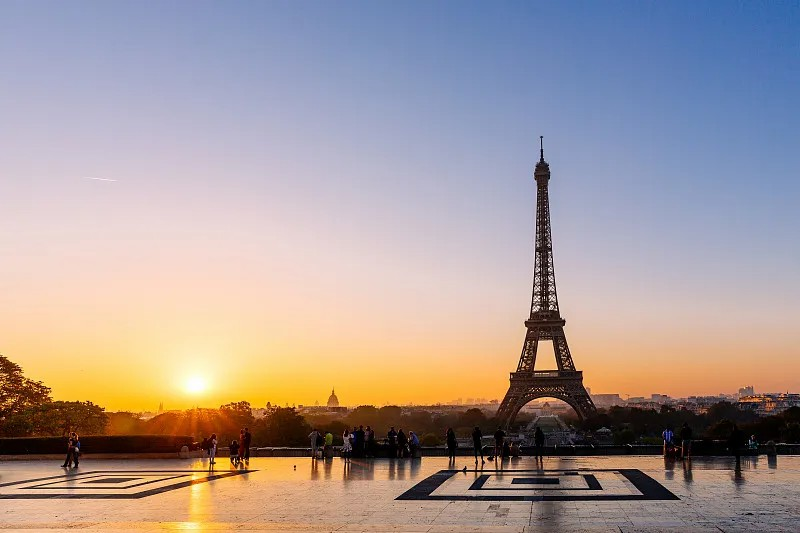Eiffel: (494, 134, 598, 433)
